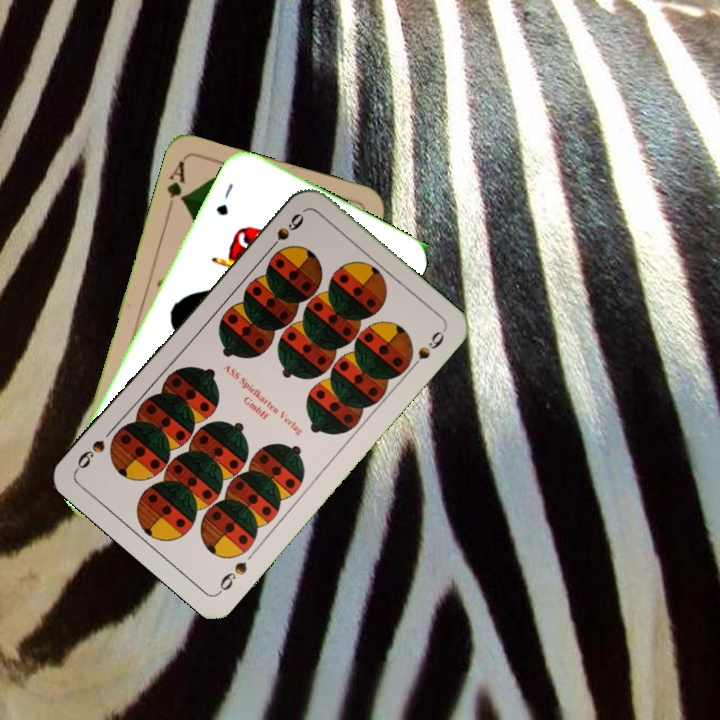GA: (162, 157, 188, 216)
GU: (212, 179, 236, 218)
S9: (263, 209, 307, 256), (214, 557, 250, 597)
